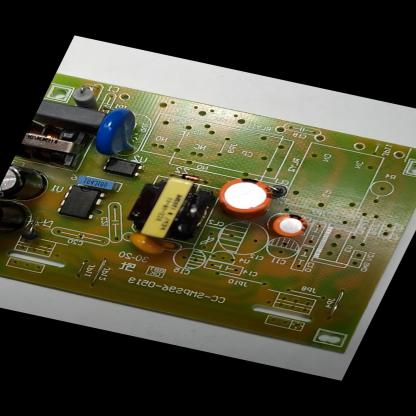Cap1: (211, 173, 280, 219)
Cap2: (266, 210, 312, 240)
Cap3: (0, 199, 39, 245)
Cap4: (0, 163, 55, 209)
MOSFET: (53, 182, 108, 222)
Mov: (86, 105, 153, 160)
Resistor: (65, 84, 106, 110)
Transformer: (120, 173, 218, 246), (16, 121, 92, 168)
